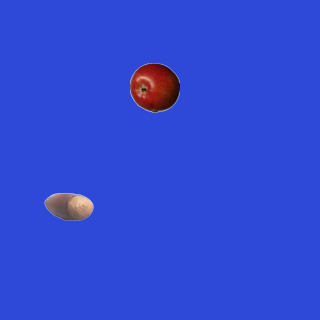Apple Braeburn: (129, 62, 179, 112)
Hazelnut: (43, 181, 93, 231)
